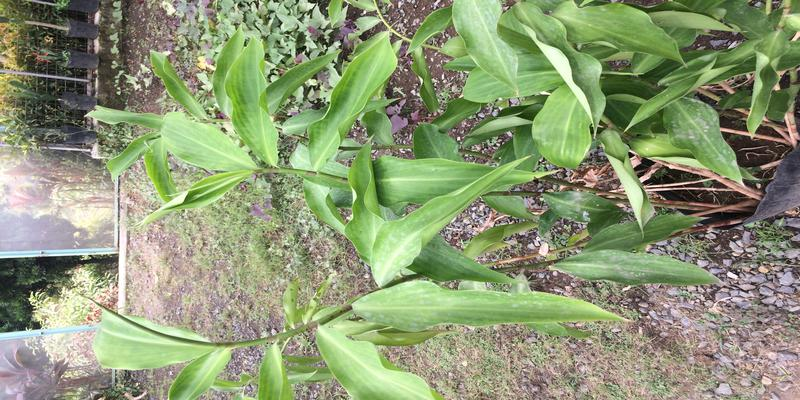Insulin: (180, 103, 733, 341)
